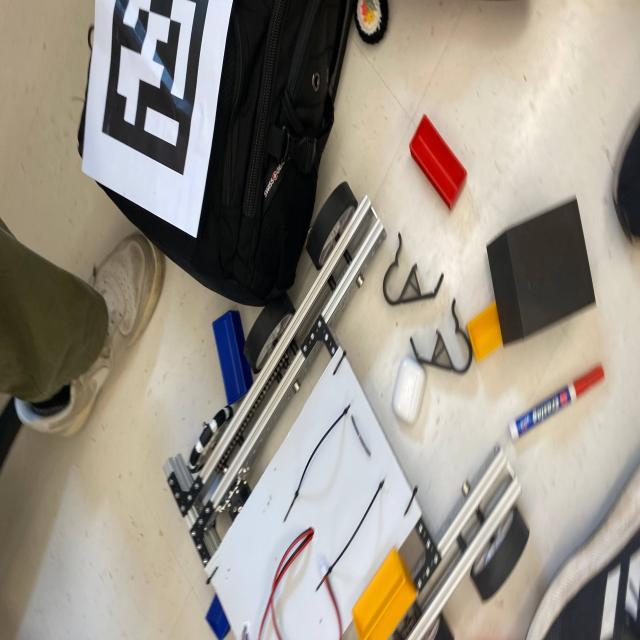blue-specimen: (212, 311, 252, 404), (206, 594, 230, 640)
red-specimen: (409, 115, 466, 210)
yellow-specimen: (352, 548, 417, 640), (467, 303, 503, 362)
